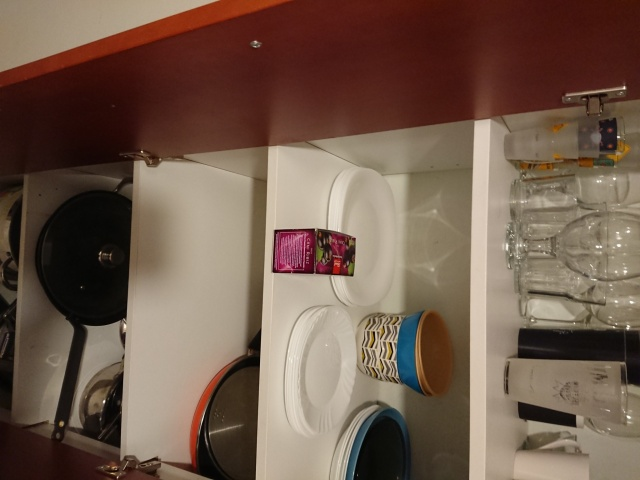Franck Black Currant Tea 60g: (270, 226, 358, 279)
